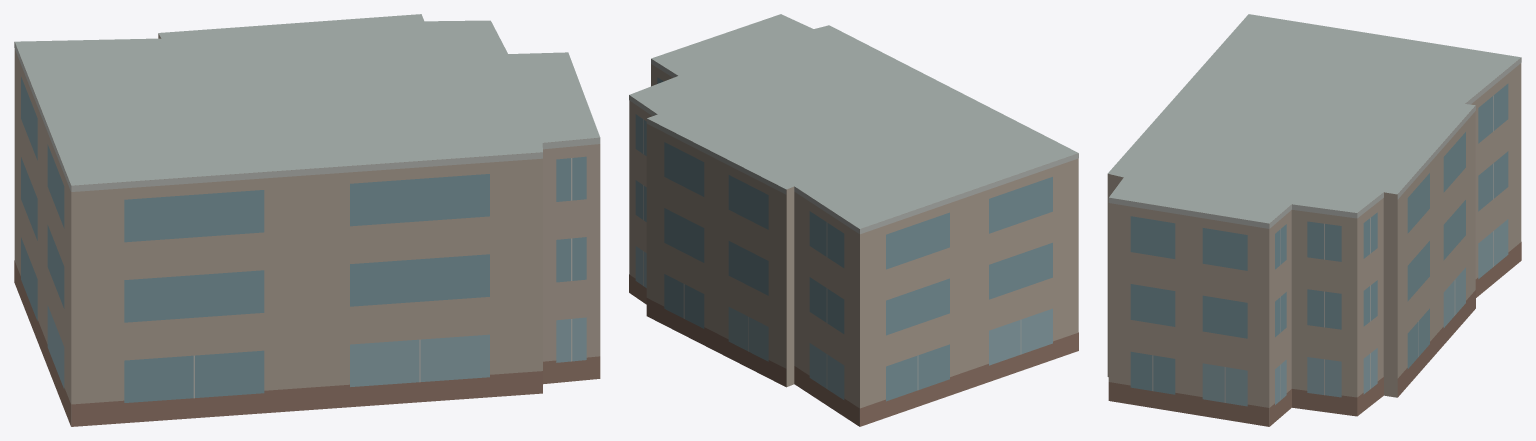
Rendered from survey-upis-32679324.glb.
The picture shows the model from 3 angles, left to right: view 1: azimuth 30°, elevation 25°; view 2: azimuth 150°, elevation 25°; view 3: azimuth 270°, elevation 25°; orthographic projection. The views are drawn at different scales.
Parts seen in each view (by area): view 1: survey-upis-32679324.tmp; view 2: survey-upis-32679324.tmp; view 3: survey-upis-32679324.tmp.
Boxes of the visible parts, left/top/right/bottom form: survey-upis-32679324.tmp: left=14, top=14, right=600, bottom=426; survey-upis-32679324.tmp: left=629, top=14, right=1078, bottom=426; survey-upis-32679324.tmp: left=1107, top=14, right=1521, bottom=426.
Size of the model in its own units: 20.24 by 9.15 by 16.89.
